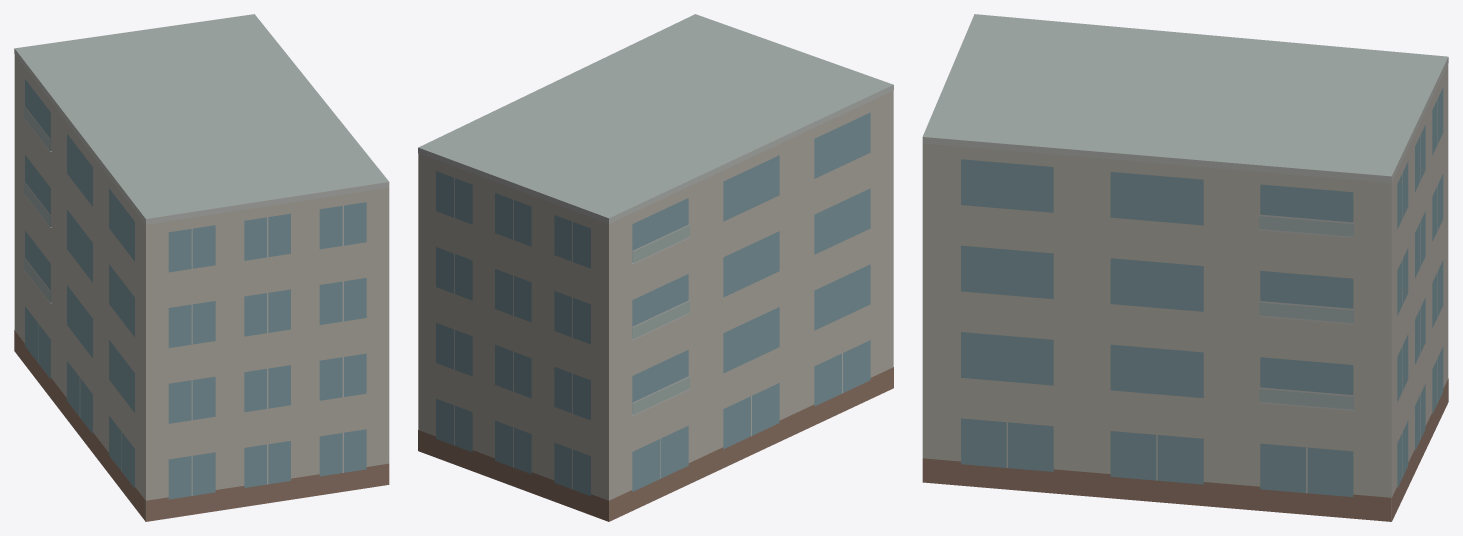
The model's file is survey-upis-32974947.glb.
The picture shows the model from 3 angles, left to right: view 1: azimuth 30°, elevation 25°; view 2: azimuth 150°, elevation 25°; view 3: azimuth 270°, elevation 25°; orthographic projection. The views are drawn at different scales.
Visible parts, largest first — view 1: survey-upis-32974947.tmp; view 2: survey-upis-32974947.tmp; view 3: survey-upis-32974947.tmp.
Boxes of the visible parts, bbox=[...] form: survey-upis-32974947.tmp: bbox=[14, 14, 389, 521]; survey-upis-32974947.tmp: bbox=[418, 14, 893, 521]; survey-upis-32974947.tmp: bbox=[922, 14, 1448, 521].
Bounding box in the file's own units: 13.11 × 13 × 17.95.
